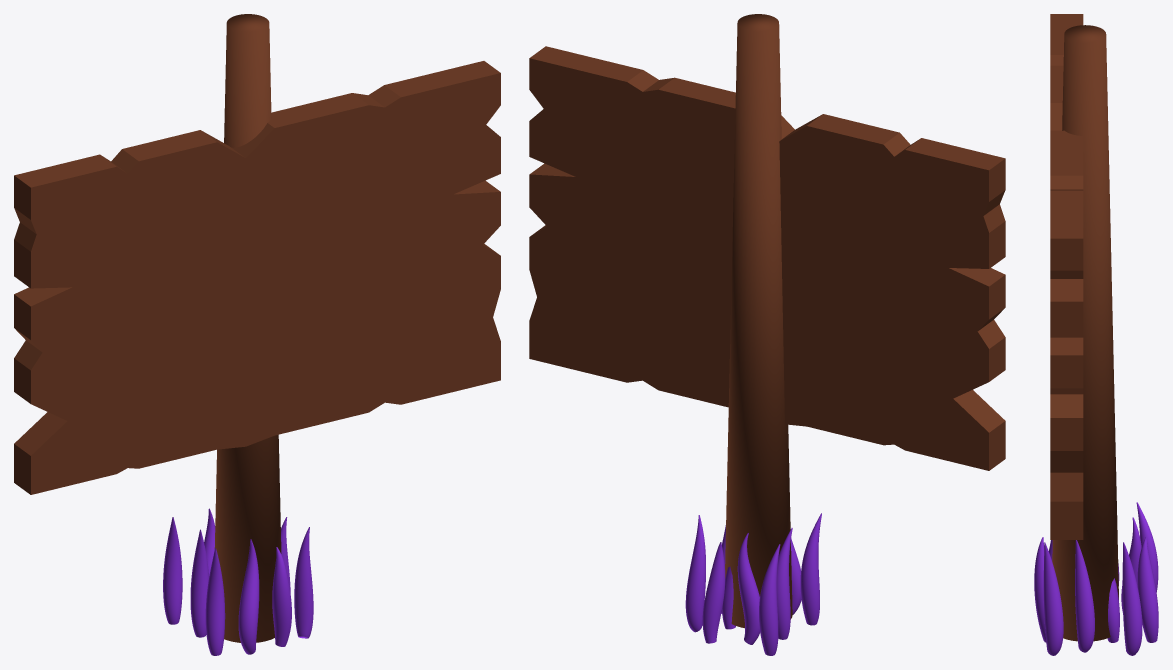
The model's file is Schild_mit_Gras_Lila.fbx.
The picture shows the model from 3 angles, left to right: view 1: azimuth 30°, elevation 25°; view 2: azimuth 150°, elevation 25°; view 3: azimuth 270°, elevation 25°; orthographic projection. The views are drawn at different scales.
Parts seen in each view (by area): view 1: Circle.006, NurbsPath.001; view 2: Circle.006, NurbsPath.001; view 3: Circle.006, NurbsPath.001.
Part boxes in pixels (x1,y1,x2,y2): Circle.006: [14, 14, 500, 642]; NurbsPath.001: [163, 508, 313, 655]; Circle.006: [529, 14, 1005, 628]; NurbsPath.001: [685, 513, 821, 655]; Circle.006: [1050, 14, 1118, 641]; NurbsPath.001: [1034, 502, 1158, 655].
Size of the model in its own units: 124 by 155 by 29.11.
